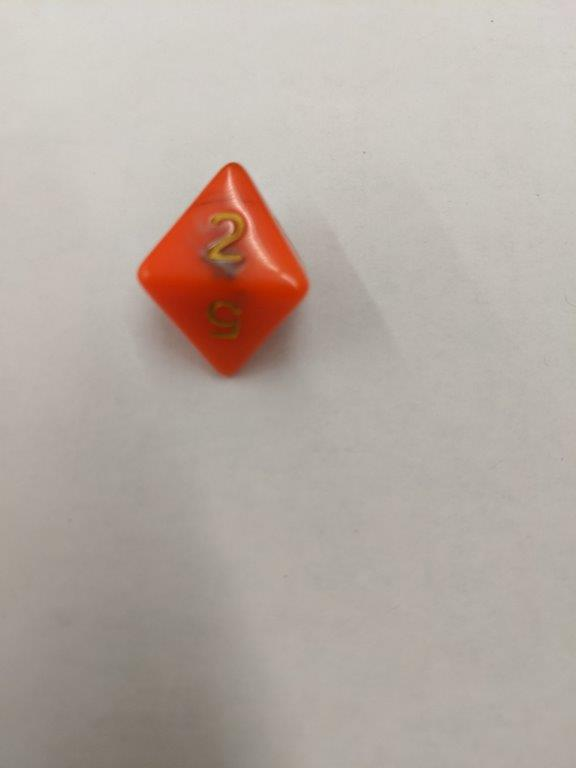d8-2: (136, 160, 314, 377)
